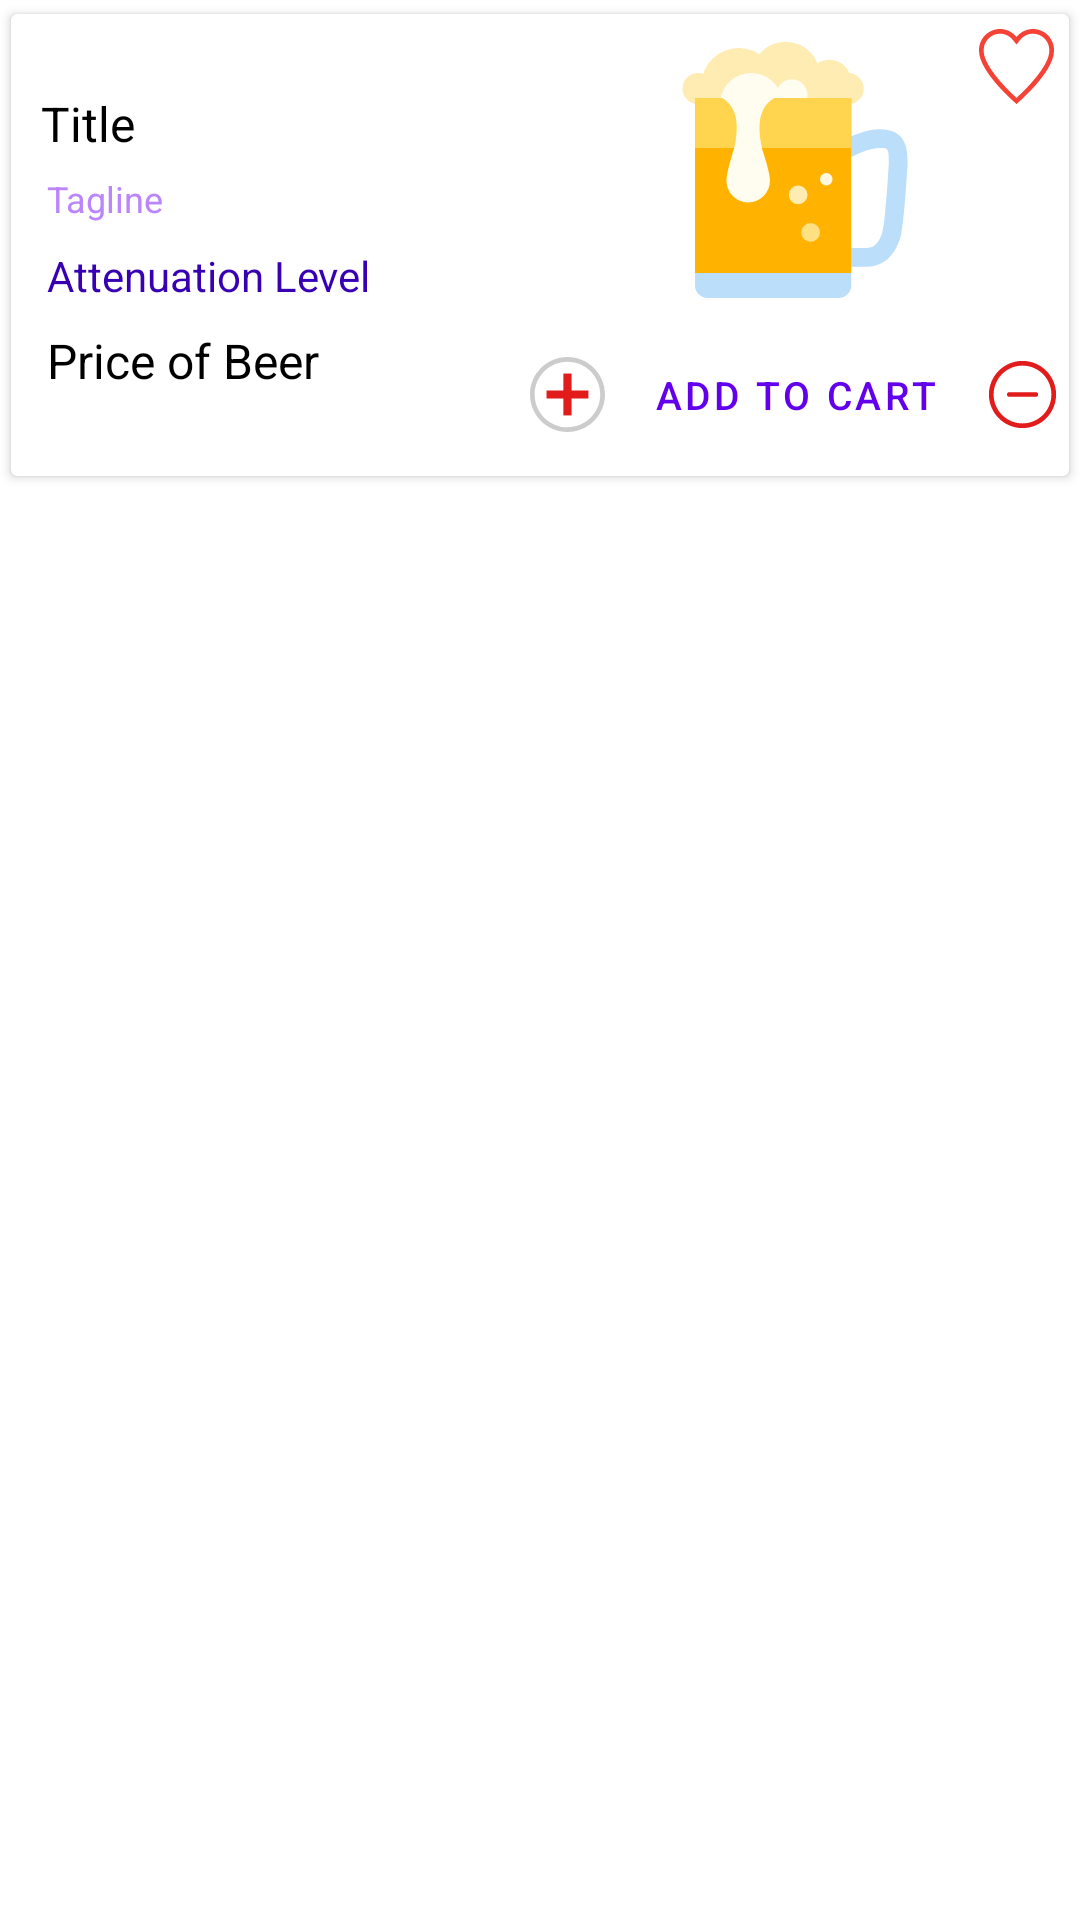

Screen size 1080*1920. Icon name, then its box in pixels as box(x1, y1, x2, y2):
heart: box(979, 29, 1054, 104)
minus circle: box(989, 361, 1056, 428)
plus: box(530, 357, 605, 432)
